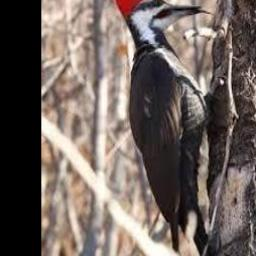Woodpecker: (114, 0, 214, 256)
